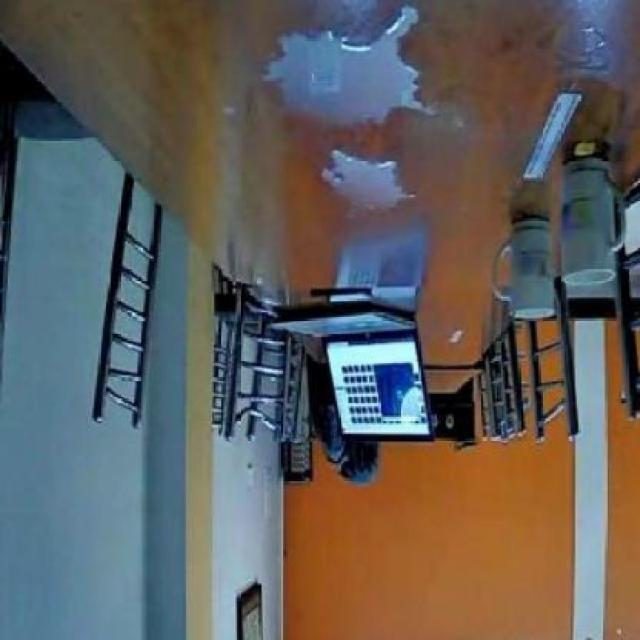spillage: (263, 4, 421, 123), (321, 149, 405, 208)
